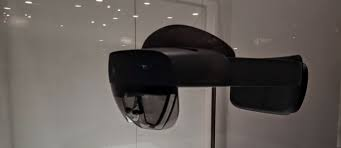hololens: (106, 23, 310, 131)
